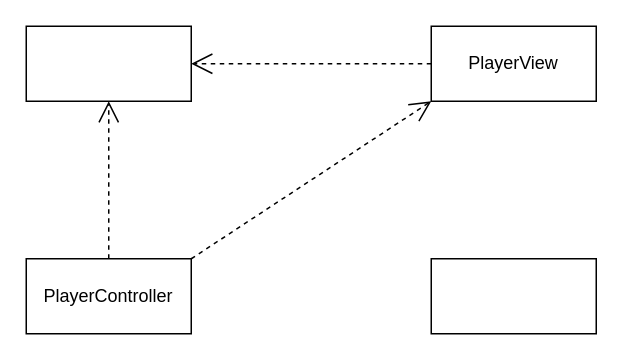
Some shapes in this 623 by 360 pixel diagram are drawn without their labels. The shapes that lost their labels are listed below. From the top down, each one's centre as x and y in pixels, then its label:
At (108,63): "Player".
At (513,295): "Program".
